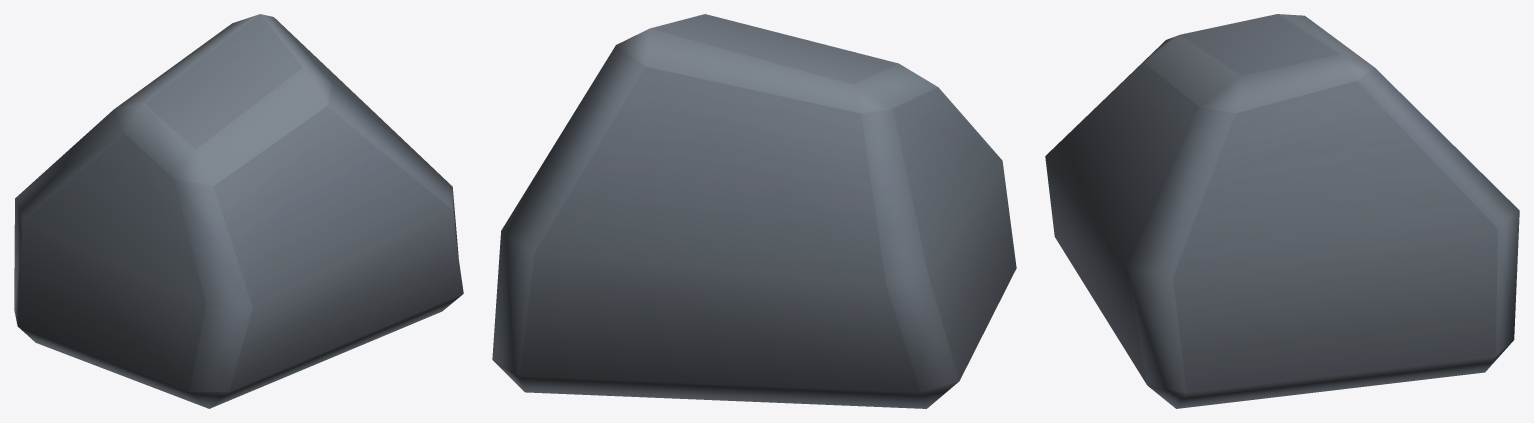
Rendered from rock_022.fbx.
3 renders of one model, left to right at view 1: azimuth 30°, elevation 25°; view 2: azimuth 150°, elevation 25°; view 3: azimuth 270°, elevation 25°, orthographic. The views are drawn at different scales.
Parts seen in each view (by area): view 1: rock_022; view 2: rock_022; view 3: rock_022.
Part boxes in pixels (bbox=[...]): rock_022: bbox=[14, 14, 463, 408]; rock_022: bbox=[492, 14, 1016, 408]; rock_022: bbox=[1045, 14, 1519, 408].
Size of the model in its own units: 114 by 76.78 by 111.
